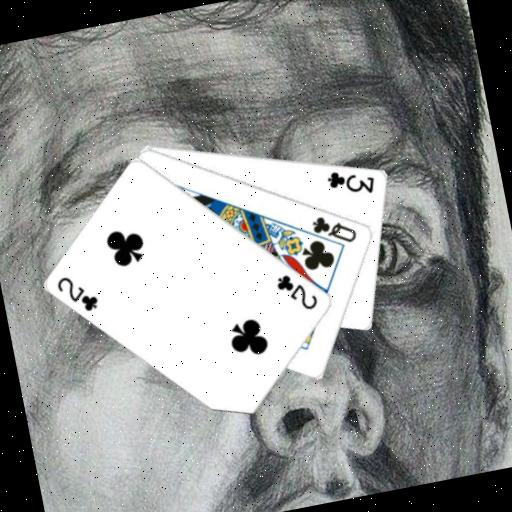2C: (272, 266, 322, 317), (53, 268, 103, 319)
3C: (323, 161, 379, 203)
QC: (308, 207, 361, 252)
